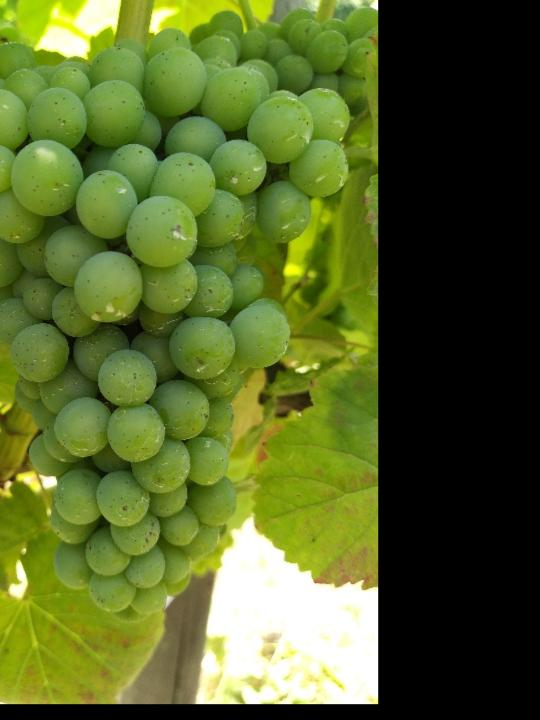grape: (0, 30, 349, 619)
